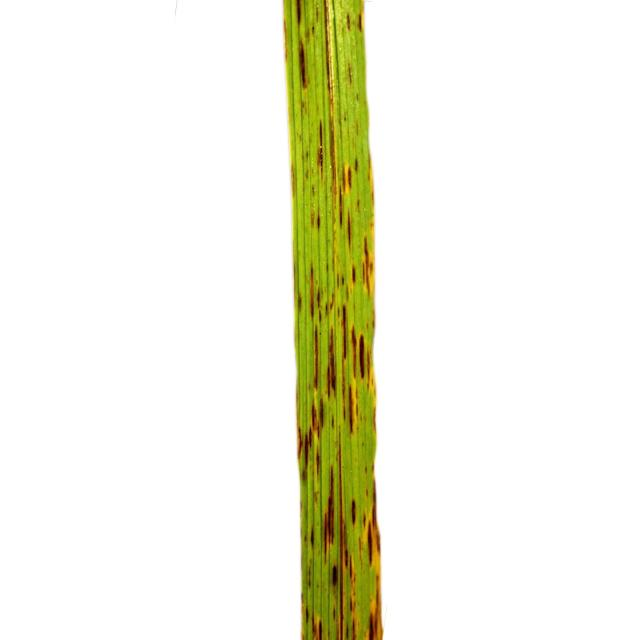Narrow brown: (230, 0, 500, 640)
